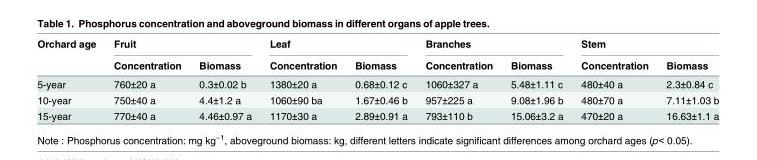table: (36, 37, 718, 121)
table column: (259, 37, 345, 121), (104, 37, 189, 121), (415, 37, 500, 121), (571, 37, 656, 121), (500, 37, 571, 121), (189, 37, 259, 121), (345, 37, 415, 121), (36, 37, 104, 121), (656, 37, 718, 121)
table column header: (36, 37, 718, 74)
table row: (36, 53, 718, 74), (36, 74, 718, 91), (36, 37, 718, 53), (36, 91, 718, 107), (36, 107, 718, 121)
table spanning cell: (36, 37, 104, 74), (259, 37, 415, 53), (415, 37, 571, 53), (104, 37, 259, 53), (571, 37, 718, 53)
